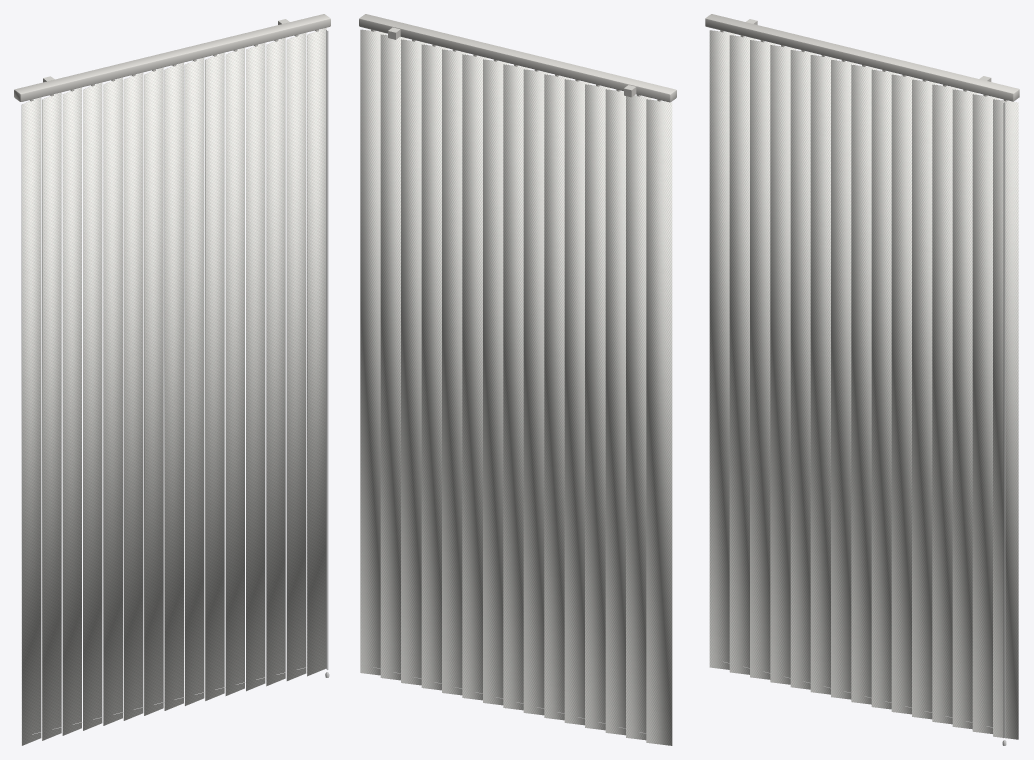
Rendered from cortina_vertical_120_c100.glb.
3 renders of one model, left to right at view 1: azimuth 30°, elevation 25°; view 2: azimuth 150°, elevation 25°; view 3: azimuth 330°, elevation 25°, orthographic.
Parts seen in each view (by area): view 1: cortina_vertical_120_c100; view 2: cortina_vertical_120_c100; view 3: cortina_vertical_120_c100.
Boxes of the visible parts, x1,y1,x2,y2 form: cortina_vertical_120_c100: [14, 14, 330, 745]; cortina_vertical_120_c100: [359, 14, 676, 745]; cortina_vertical_120_c100: [705, 14, 1019, 745].
Size of the model in its own units: 1.19 by 2.4 by 0.0996.
Materials: 3 (1 with a texture image).
